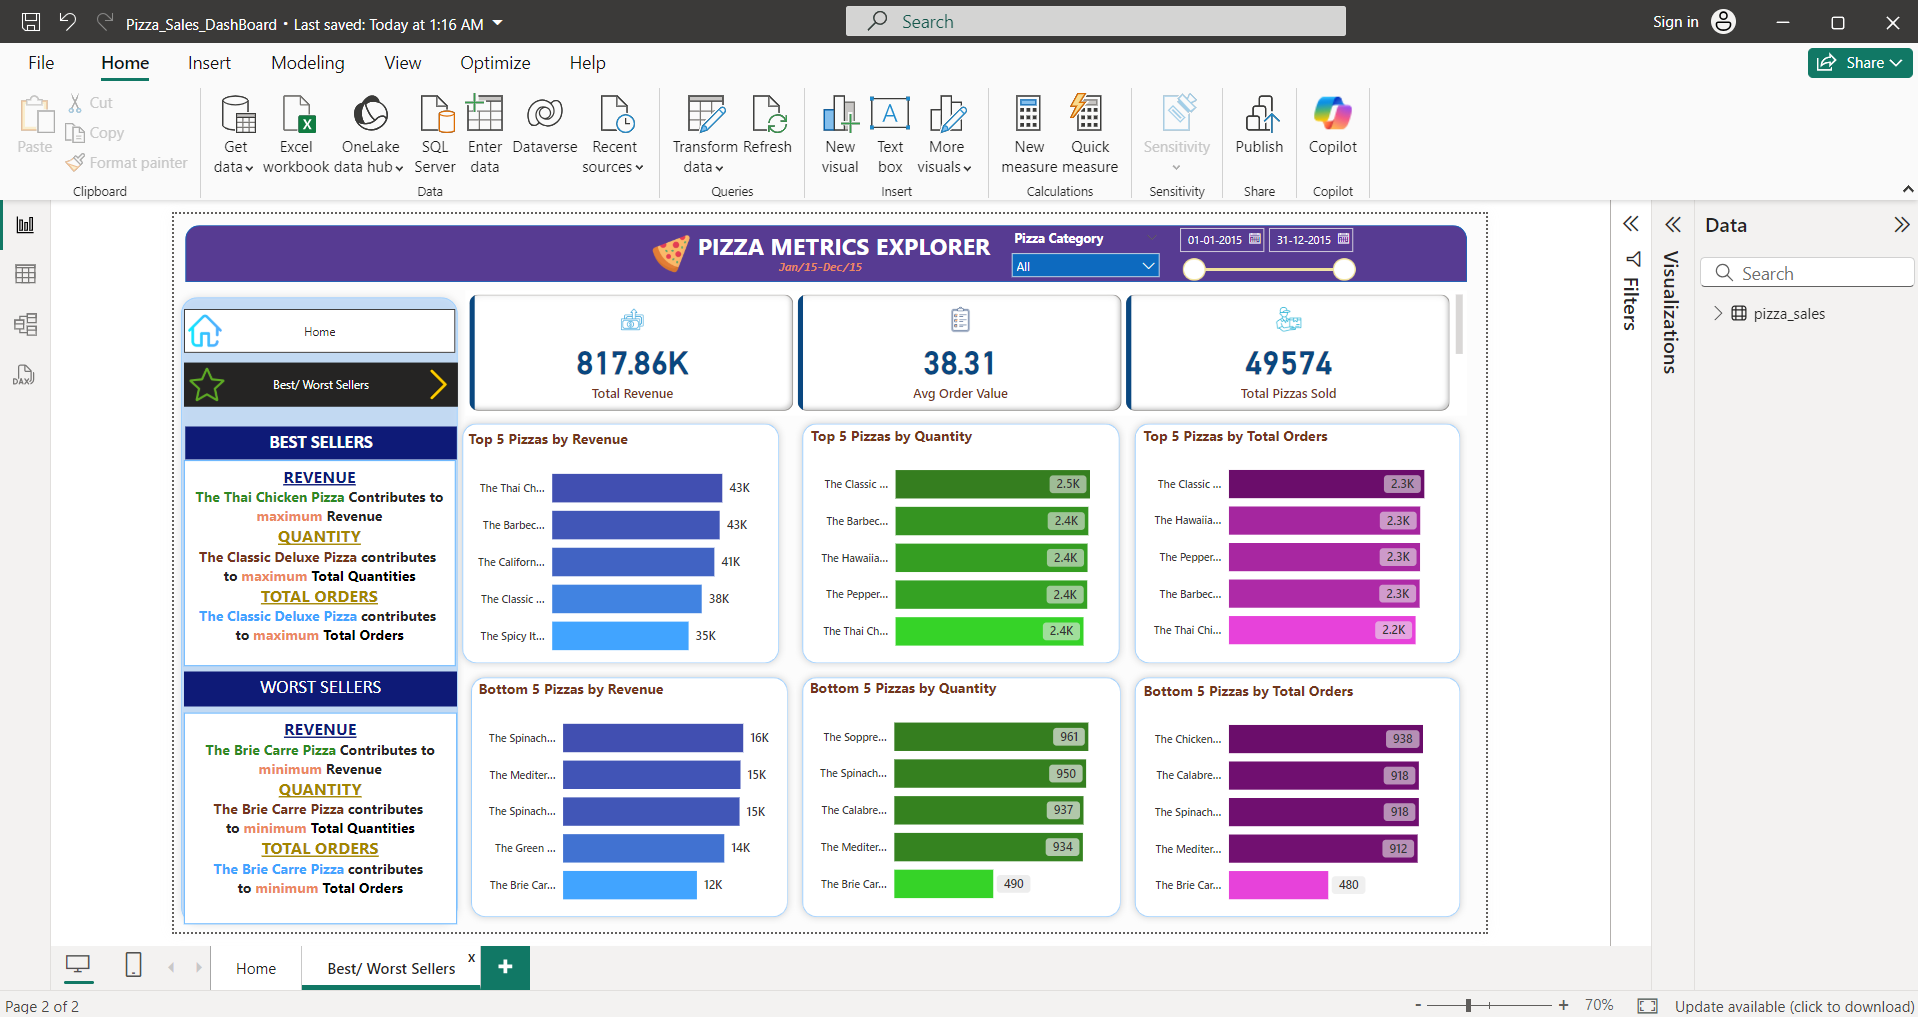

The page's visual inventory and layout, read from the dashboard file:
{"tool":"powerbi","page":{"name":"Best/ Worst Sellers","canvas":[1500,820],"ordinal":1},"visuals":[{"type":"shape","box":[12.5,12.5,1465,65],"z":0},{"type":"textbox","box":[585,12.5,360,50],"z":1000},{"type":"textbox","box":[686.2,46.2,117.5,31.2],"z":2000},{"type":"image","box":[541.2,18.8,53.8,53.8],"z":3000},{"type":"shape","box":[0,87.8,332.2,732.2],"z":4000},{"type":"cardVisual","fields":{"Data":["pizza_sales.Total Revenue","pizza_sales.Avg Order Value","pizza_sales.Total Pizzas Sold","pizza_sales.Total Orders","pizza_sales.Avg Pizzas Per Order"]},"box":[332.5,87.5,1145,143],"z":5000},{"type":"shape","box":[322,232,378,290],"z":6000},{"type":"textbox","box":[12.2,242.2,310,37.8],"z":7000},{"type":"textbox","box":[11.7,281.7,310,235],"z":8000},{"type":"textbox","box":[11.7,523.3,311.7,40],"z":9000},{"type":"textbox","box":[11.7,570,311.7,241.7],"z":10000},{"type":"slicer","fields":{"Values":["pizza_sales.pizza_category"]},"box":[947.8,12.2,188.9,65.6],"z":11000},{"type":"slicer","fields":{"Values":["pizza_sales.order_date"]},"box":[1136.7,5.6,221.1,72.2],"z":12000},{"type":"shape","box":[710.7,232,378.7,290],"z":13000},{"type":"shape","box":[1089.3,232,388,290],"z":14000},{"type":"shape","box":[332,522,378,290],"z":15000},{"type":"shape","box":[710,522,380,290],"z":16000},{"type":"shape","box":[1090,522,388,290],"z":17000},{"type":"barChart","title":"Top 5 Pizzas by Revenue","fields":{"Category":["pizza_sales.pizza_name"],"Y":["pizza_sales.Total Revenue"]},"box":[332,246,354,276],"z":18000},{"type":"barChart","title":"Bottom 5 Pizzas by Revenue","fields":{"Category":["pizza_sales.pizza_name"],"Y":["pizza_sales.Total Revenue"]},"box":[343.3,531.7,355,275],"z":19000},{"type":"barChart","title":"Top 5 Pizzas by Quantity","fields":{"Category":["pizza_sales.pizza_name"],"Y":["pizza_sales.Total Pizzas Sold"]},"box":[723.3,241.7,355,275],"z":20000},{"type":"barChart","title":"Bottom 5 Pizzas by Quantity","fields":{"Category":["pizza_sales.pizza_name"],"Y":["pizza_sales.Total Pizzas Sold"]},"box":[721.7,530,355,275],"z":21000},{"type":"barChart","title":"Top 5 Pizzas by Total Orders","fields":{"Category":["pizza_sales.pizza_name"],"Y":["pizza_sales.Total Orders"]},"box":[1103.3,241.7,358.3,273.3],"z":22000},{"type":"barChart","title":"Bottom 5 Pizzas by Total Orders","fields":{"Category":["pizza_sales.pizza_name"],"Y":["pizza_sales.Total Orders"]},"box":[1103.3,533.3,358.3,273.3],"z":23000},{"type":"pageNavigator","box":[11.7,170,313.3,50],"z":24000},{"type":"pageNavigator","box":[11.7,108.3,310,50],"z":25000},{"type":"image","box":[280,170,45,50],"z":26000},{"type":"image","box":[11.7,108.3,48.3,50],"z":27000},{"type":"image","box":[13.3,170,50,50],"z":27001}]}

Visuals, with their boxes on the page's 1500x820 design canvas (x1, y1, x2, y2). These are canvas units, not pixel positions in the 1918x1017 screenshot, which may show the page scaled, cropped or inside an application window:
shape: (left=12, top=12, right=1478, bottom=78)
textbox: (left=585, top=12, right=945, bottom=62)
textbox: (left=686, top=46, right=804, bottom=77)
image: (left=541, top=19, right=595, bottom=73)
shape: (left=0, top=88, right=332, bottom=820)
cardVisual - pizza_sales.Total Revenue x pizza_sales.Avg Order Value: (left=332, top=88, right=1478, bottom=230)
shape: (left=322, top=232, right=700, bottom=522)
textbox: (left=12, top=242, right=322, bottom=280)
textbox: (left=12, top=282, right=322, bottom=517)
textbox: (left=12, top=523, right=323, bottom=563)
textbox: (left=12, top=570, right=323, bottom=812)
slicer - pizza_sales.pizza_category: (left=948, top=12, right=1137, bottom=78)
slicer - pizza_sales.order_date: (left=1137, top=6, right=1358, bottom=78)
shape: (left=711, top=232, right=1089, bottom=522)
shape: (left=1089, top=232, right=1477, bottom=522)
shape: (left=332, top=522, right=710, bottom=812)
shape: (left=710, top=522, right=1090, bottom=812)
shape: (left=1090, top=522, right=1478, bottom=812)
"Top 5 Pizzas by Revenue" barChart: (left=332, top=246, right=686, bottom=522)
"Bottom 5 Pizzas by Revenue" barChart: (left=343, top=532, right=698, bottom=807)
"Top 5 Pizzas by Quantity" barChart: (left=723, top=242, right=1078, bottom=517)
"Bottom 5 Pizzas by Quantity" barChart: (left=722, top=530, right=1077, bottom=805)
"Top 5 Pizzas by Total Orders" barChart: (left=1103, top=242, right=1462, bottom=515)
"Bottom 5 Pizzas by Total Orders" barChart: (left=1103, top=533, right=1462, bottom=807)
pageNavigator: (left=12, top=170, right=325, bottom=220)
pageNavigator: (left=12, top=108, right=322, bottom=158)
image: (left=280, top=170, right=325, bottom=220)
image: (left=12, top=108, right=60, bottom=158)
image: (left=13, top=170, right=63, bottom=220)
